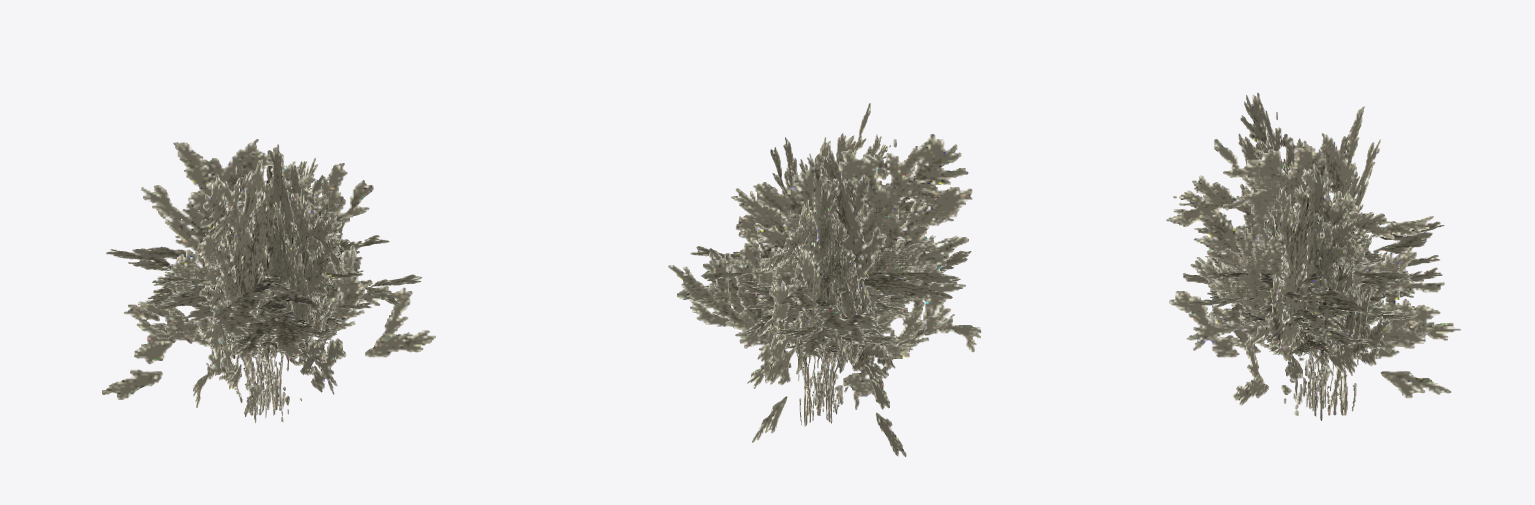
Rendered from bush_far.glb.
3 views of the same model, side by side, from view 1: azimuth 30°, elevation 25°; view 2: azimuth 150°, elevation 25°; view 3: azimuth 270°, elevation 25° (orthographic).
Visible parts, largest first — view 1: wild_rooibos_bush_b, wild_rooibos_bush_c, wild_rooibos_bush_d, wild_rooibos_bush_e; view 2: wild_rooibos_bush_b, wild_rooibos_bush_c, wild_rooibos_bush_d, wild_rooibos_bush_e; view 3: wild_rooibos_bush_b, wild_rooibos_bush_c, wild_rooibos_bush_d, wild_rooibos_bush_e.
Part boxes in pixels (x1=…): wild_rooibos_bush_b: x1=102, y1=139, x2=435, y2=416; wild_rooibos_bush_c: x1=138, y1=167, x2=366, y2=421; wild_rooibos_bush_d: x1=206, y1=157, x2=372, y2=423; wild_rooibos_bush_e: x1=221, y1=267, x2=330, y2=415; wild_rooibos_bush_b: x1=677, y1=103, x2=981, y2=456; wild_rooibos_bush_c: x1=668, y1=133, x2=968, y2=410; wild_rooibos_bush_d: x1=731, y1=168, x2=954, y2=412; wild_rooibos_bush_e: x1=769, y1=262, x2=901, y2=426; wild_rooibos_bush_b: x1=1169, y1=92, x2=1451, y2=405; wild_rooibos_bush_c: x1=1166, y1=132, x2=1460, y2=415; wild_rooibos_bush_d: x1=1196, y1=189, x2=1433, y2=410; wild_rooibos_bush_e: x1=1269, y1=262, x2=1358, y2=420.
Size of the model in its own units: 0.5898 by 0.5595 by 0.6411.
Materials: 1 (1 with a texture image).
